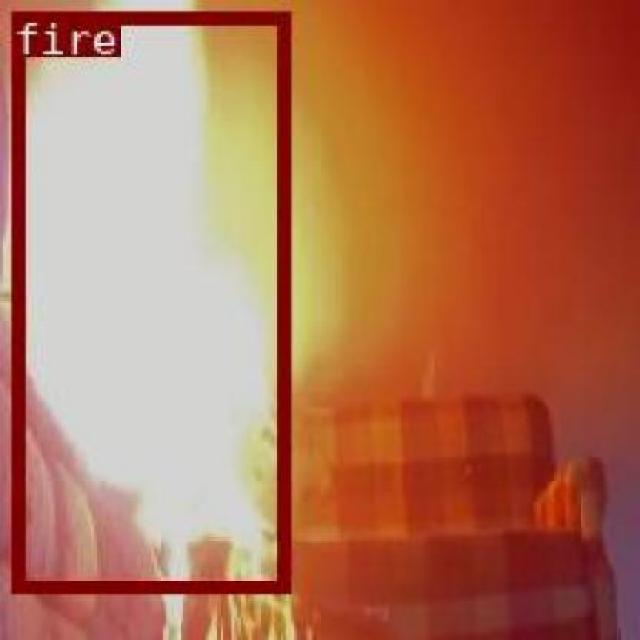Fire: (10, 9, 288, 592)
